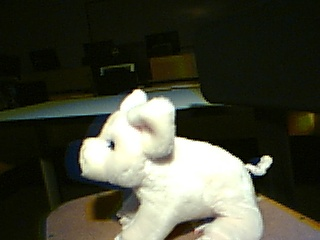piggy: (76, 88, 274, 240)
